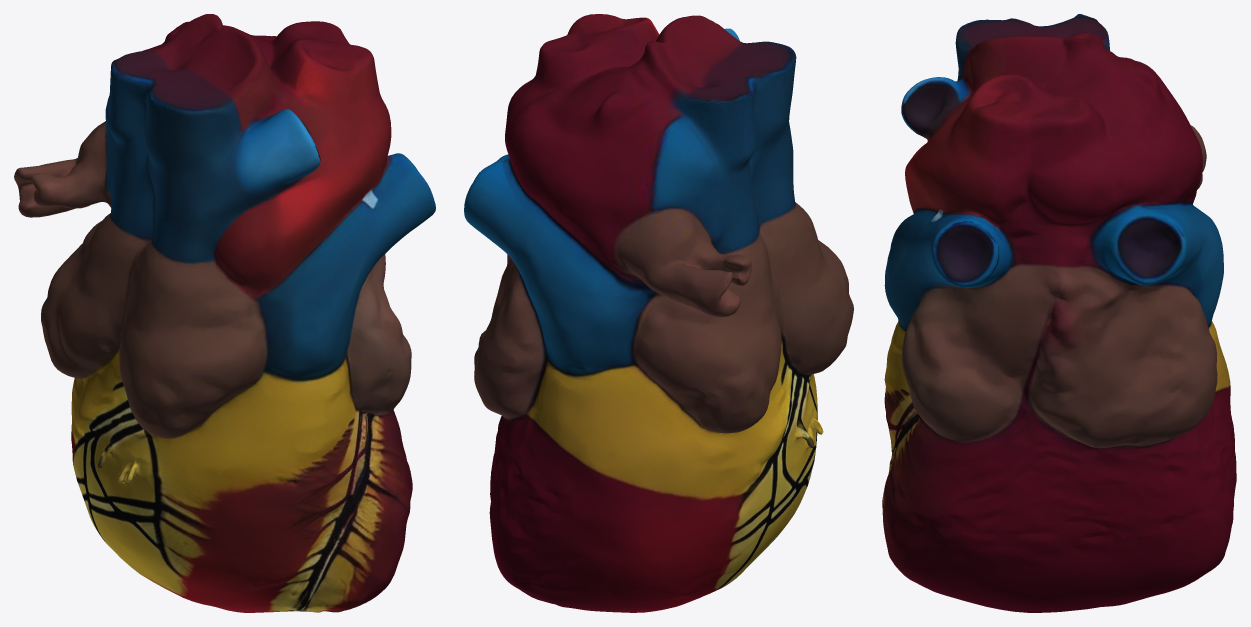
The model's file is kalp.glb.
3 renders of one model, left to right at view 1: azimuth 30°, elevation 25°; view 2: azimuth 150°, elevation 25°; view 3: azimuth 270°, elevation 25°, orthographic. The views are drawn at different scales.
Parts seen in each view (by area): view 1: Object; view 2: Object; view 3: Object.
Boxes of the visible parts, bbox=[...] form: Object: bbox=[14, 14, 435, 612]; Object: bbox=[464, 14, 853, 612]; Object: bbox=[882, 14, 1236, 612].
Bounding box in the file's own units: 1072 × 1983 × 1159.
1 material, 1 textured.
